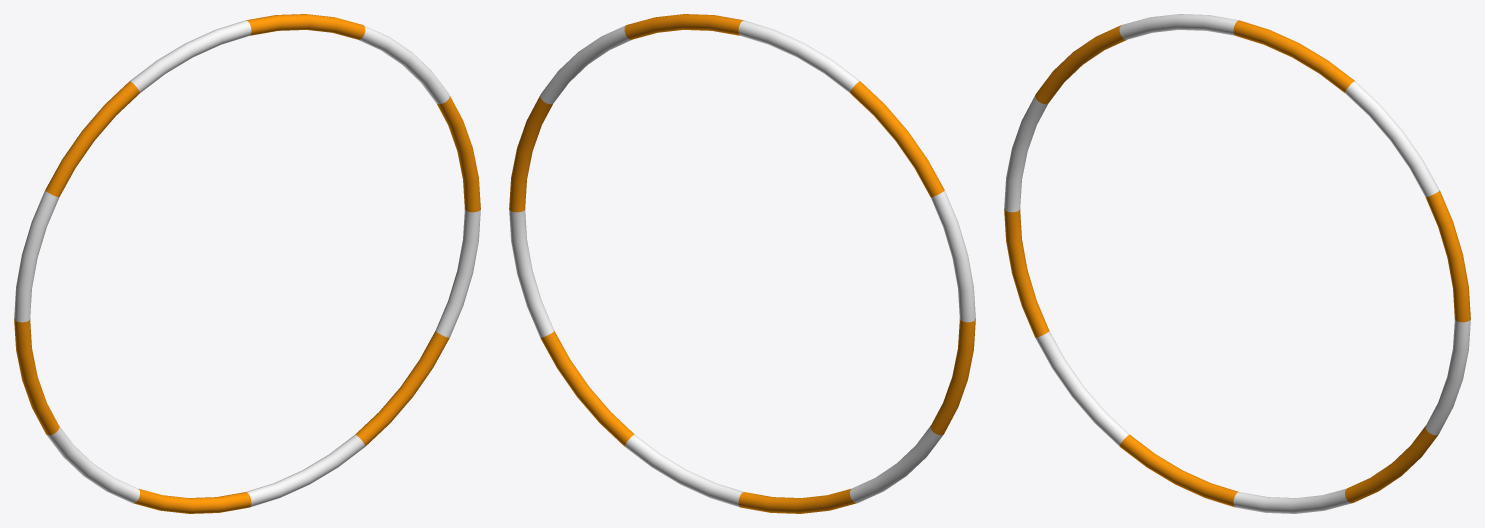
The model's file is SKYDROP_Stunt_Ring.glb.
3 renders of one model, left to right at view 1: azimuth 30°, elevation 25°; view 2: azimuth 150°, elevation 25°; view 3: azimuth 330°, elevation 25°, orthographic.
Visible parts, largest first — view 1: SKY_Ring_Main; view 2: SKY_Ring_Main; view 3: SKY_Ring_Main.
Boxes of the visible parts, x1,y1,x2,y2 form: SKY_Ring_Main: (14, 14, 480, 513); SKY_Ring_Main: (509, 14, 975, 513); SKY_Ring_Main: (1004, 14, 1470, 513).
Bounding box in the file's own units: 4 × 4 × 0.12.
